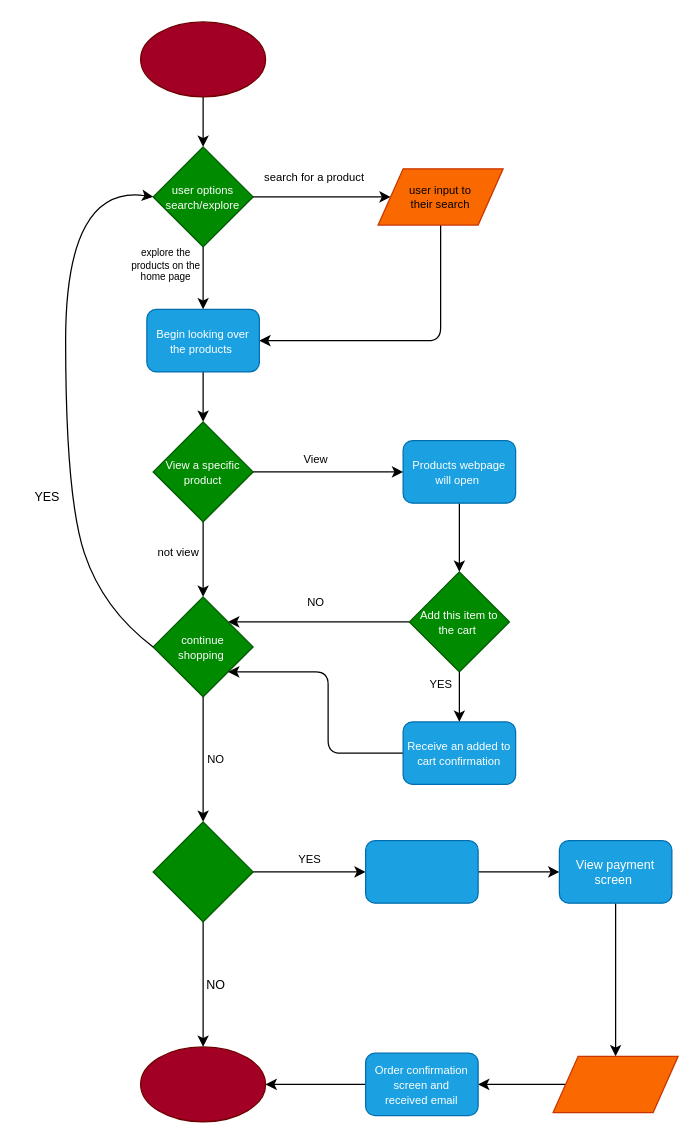
Some shapes in this 700 by 1144 pixel diagram are drawn without their labels. The shapes that lost their labels are listed below. From the top down, each one's box as (x1, y1, x2, y2) in pixels, then its label:
(139, 21, 266, 97): User enters website
(152, 821, 253, 922): Checkout
(364, 839, 478, 903): View cart screen
(139, 1046, 266, 1122): User leaves website
(552, 1055, 678, 1112): Payment information
